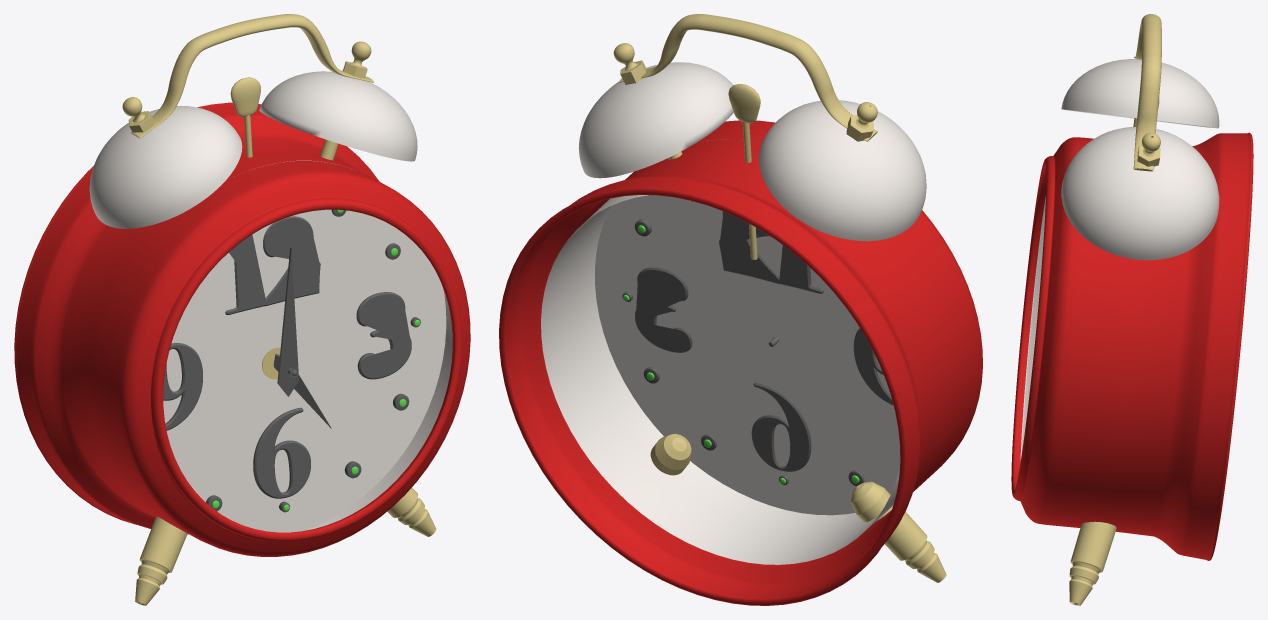
File: Alarm Clock Day.fbx
The picture shows the model from 3 angles, left to right: view 1: azimuth 30°, elevation 25°; view 2: azimuth 150°, elevation 25°; view 3: azimuth 270°, elevation 25°; orthographic projection. The views are drawn at different scales.
Visible parts, largest first — view 1: polySurface13; view 2: polySurface13; view 3: polySurface13.
Boxes of the visible parts, bbox=[...] form: polySurface13: bbox=[14, 14, 470, 605]; polySurface13: bbox=[499, 14, 982, 605]; polySurface13: bbox=[1011, 14, 1253, 605].
Bounding box in the file's own units: 271 × 352 × 152.
